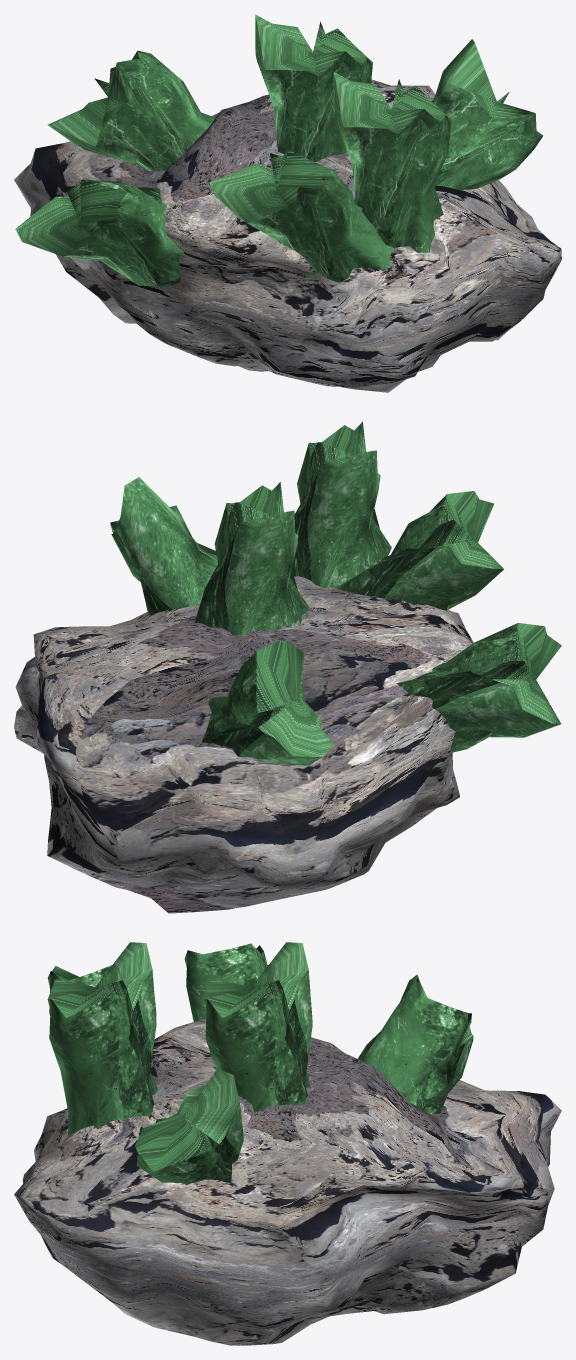
File: Sulfato de Hierro.FBX
The picture shows the model from 3 angles, top to bottom: view 1: azimuth 30°, elevation 25°; view 2: azimuth 150°, elevation 25°; view 3: azimuth 270°, elevation 25°; orthographic projection. The views are drawn at different scales.
Visible parts, largest first — view 1: GeoSphere001, Cylinder002, Cylinder003, Cylinder005, Cylinder004, Cylinder001, Cylinder006; view 2: GeoSphere001, Cylinder005, Cylinder002, Cylinder001, Cylinder003, Cylinder004, Cylinder006; view 3: GeoSphere001, Cylinder002, Cylinder001, Cylinder004, Cylinder006, Cylinder005, Cylinder003.
Boxes of the visible parts, <box> form: GeoSphere001: <box>14,79,561,392</box>; Cylinder002: <box>333,72,451,252</box>; Cylinder003: <box>209,149,394,282</box>; Cylinder005: <box>15,179,183,287</box>; Cylinder004: <box>48,50,215,171</box>; Cylinder001: <box>255,14,372,162</box>; Cylinder006: <box>433,39,542,190</box>; GeoSphere001: <box>14,576,473,913</box>; Cylinder005: <box>396,623,561,753</box>; Cylinder002: <box>292,421,391,588</box>; Cylinder001: <box>194,482,309,635</box>; Cylinder003: <box>338,491,503,611</box>; Cylinder004: <box>202,640,333,765</box>; Cylinder006: <box>110,477,217,615</box>; GeoSphere001: <box>14,1019,561,1345</box>; Cylinder002: <box>47,942,157,1135</box>; Cylinder001: <box>204,942,312,1112</box>; Cylinder004: <box>358,974,473,1113</box>; Cylinder006: <box>135,1069,243,1185</box>; Cylinder005: <box>184,943,268,1021</box>; Cylinder003: <box>48,965,156,1121</box>.
Size of the model in its own units: 83.24 by 54.12 by 80.72.
2 materials, 2 textured.
